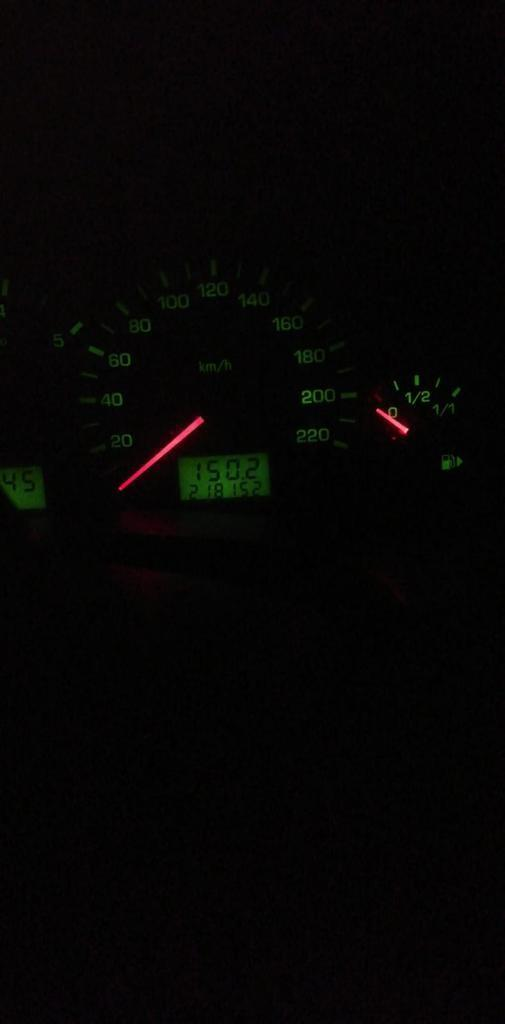,: (241, 474, 245, 480)
0: (225, 458, 240, 479)
1: (195, 460, 203, 481), (206, 484, 212, 497), (232, 482, 237, 496)
2: (245, 455, 261, 480), (188, 483, 200, 499), (252, 480, 262, 495)
5: (206, 458, 220, 482), (240, 481, 248, 495)
8: (214, 482, 224, 497)
odometer: (176, 453, 273, 504)
